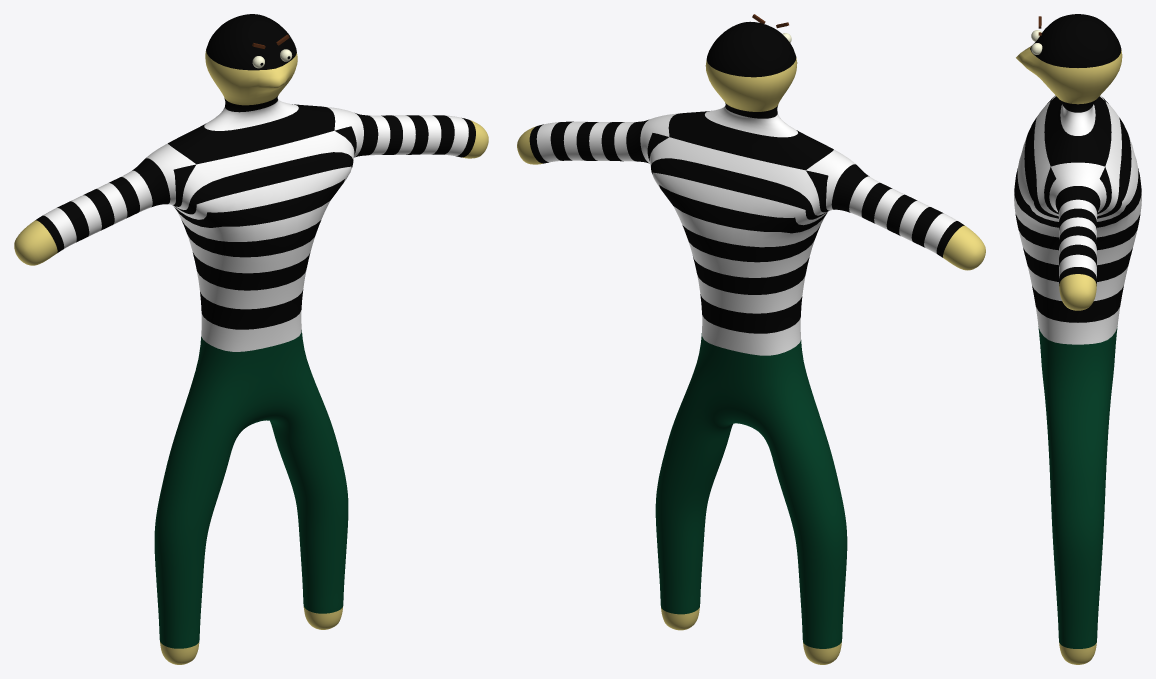
The model's file is RobberWithColors.fbx.
3 views of the same model, side by side, from view 1: azimuth 30°, elevation 25°; view 2: azimuth 150°, elevation 25°; view 3: azimuth 270°, elevation 25° (orthographic). The views are drawn at different scales.
Visible parts, largest first — view 1: Plane.001; view 2: Plane.001; view 3: Plane.001.
Boxes of the visible parts, x1,y1,x2,y2 form: Plane.001: [14, 14, 488, 664]; Plane.001: [517, 21, 985, 664]; Plane.001: [1014, 14, 1141, 664].
Size of the model in its own units: 156 by 199 by 37.84.
3 materials, 3 textured.
